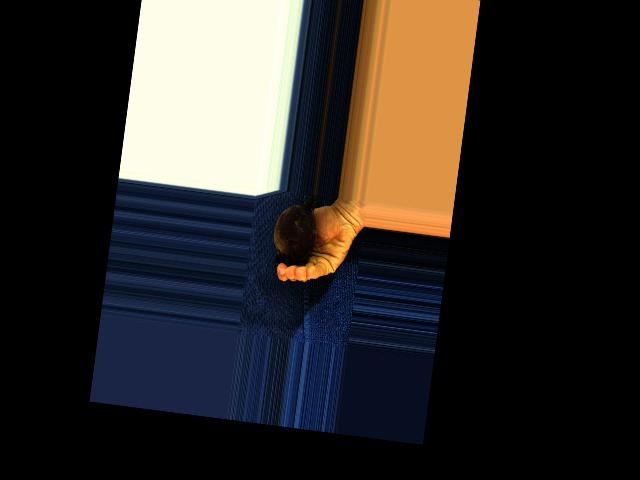beet: (270, 190, 322, 273)
